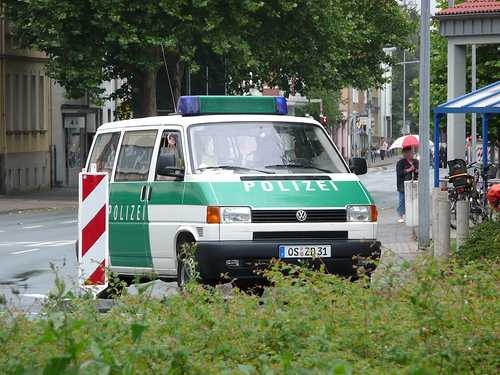Police Van: (81, 97, 384, 298)
